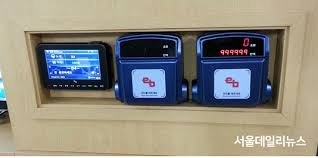terminal: (113, 34, 189, 104)
